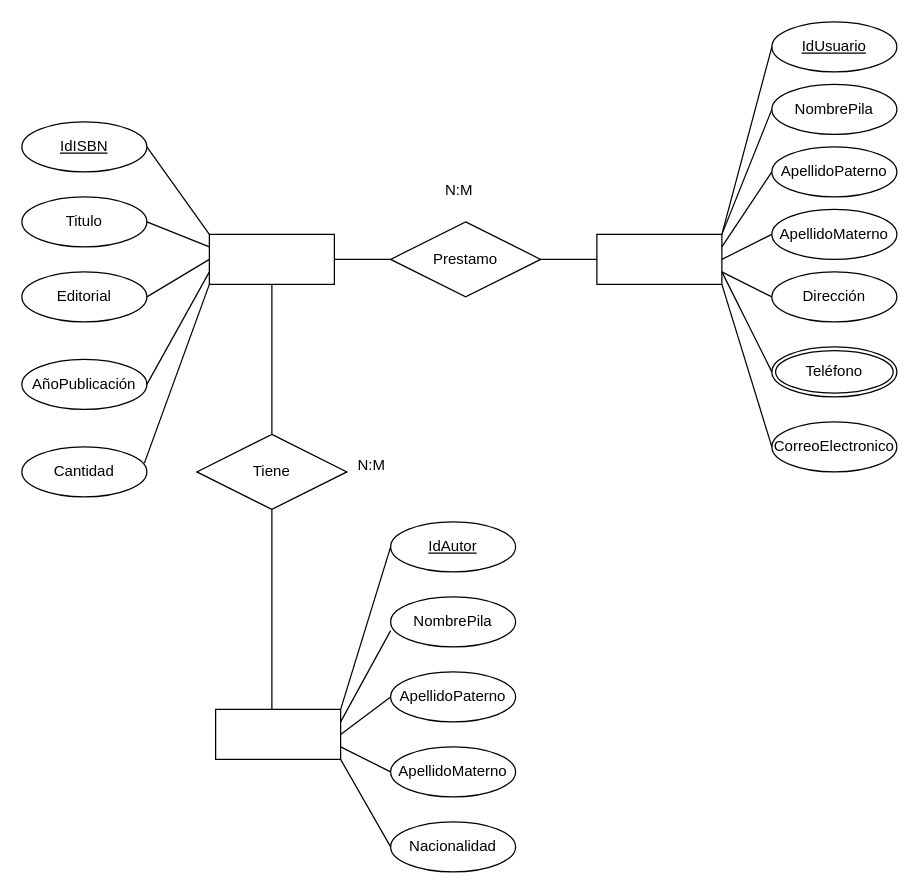
Image size: 919x894. Some labels were removed from this diagram. Here are the shapes that lost their labels. From the top down, the box of each, then its label:
(208, 233, 334, 284): Libro
(596, 233, 722, 284): Usuario
(214, 708, 341, 759): Autor
